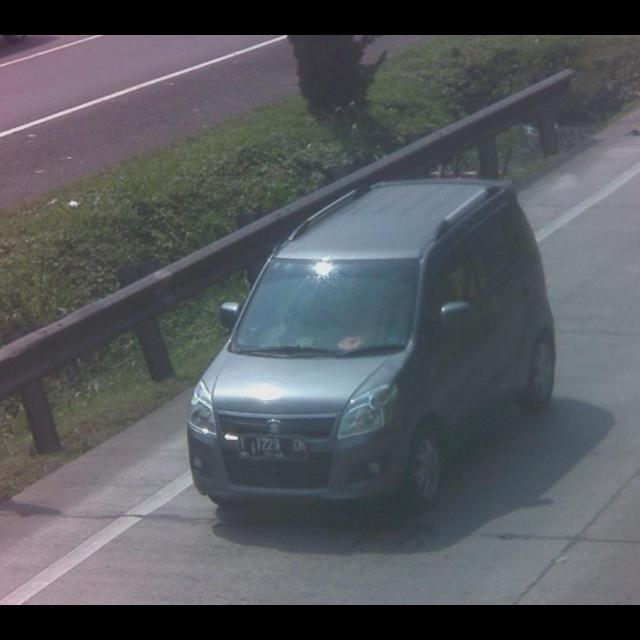plate: (236, 433, 308, 462)
